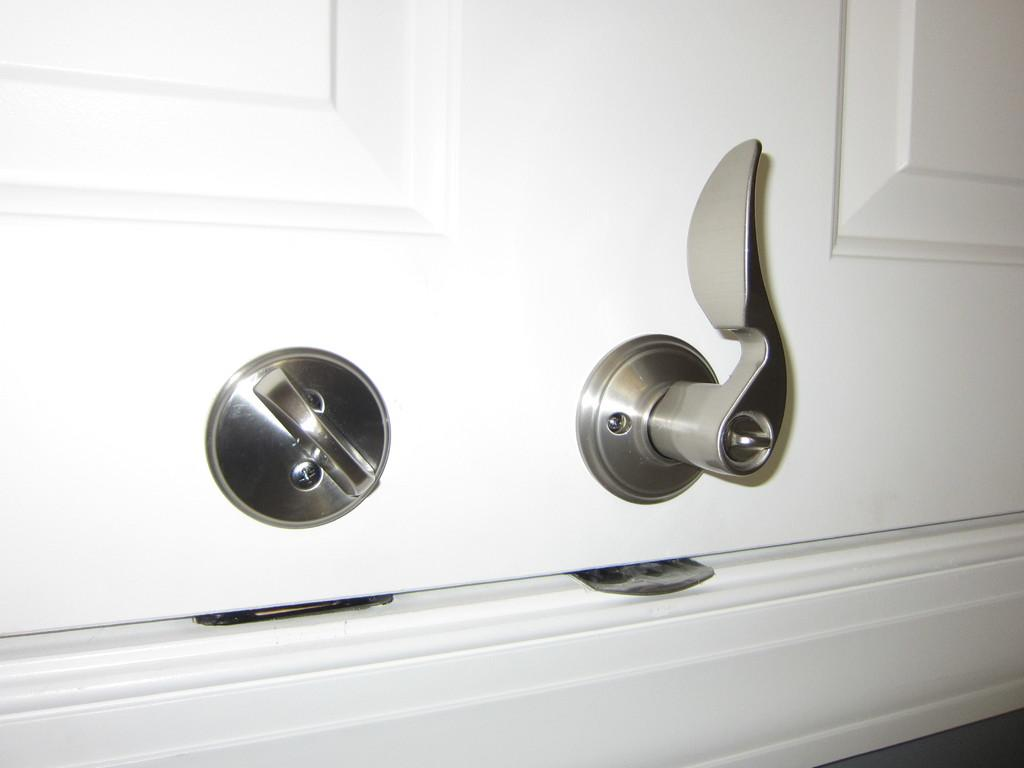handle: (650, 132, 820, 484)
